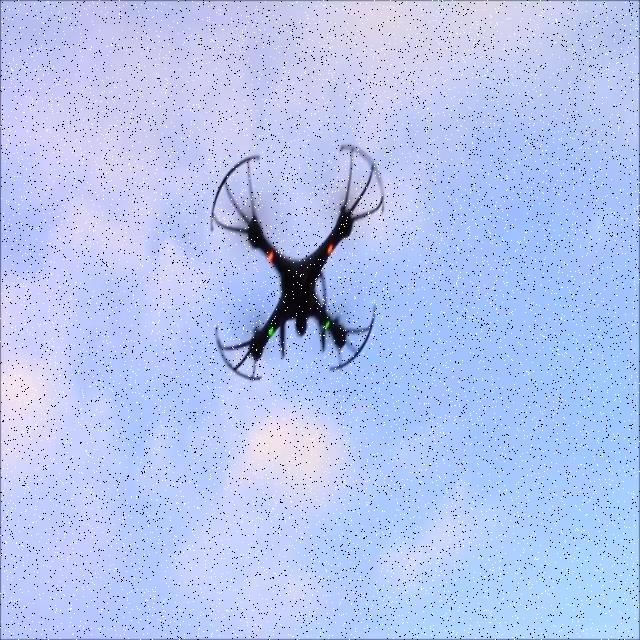UAV: (210, 144, 384, 381)
